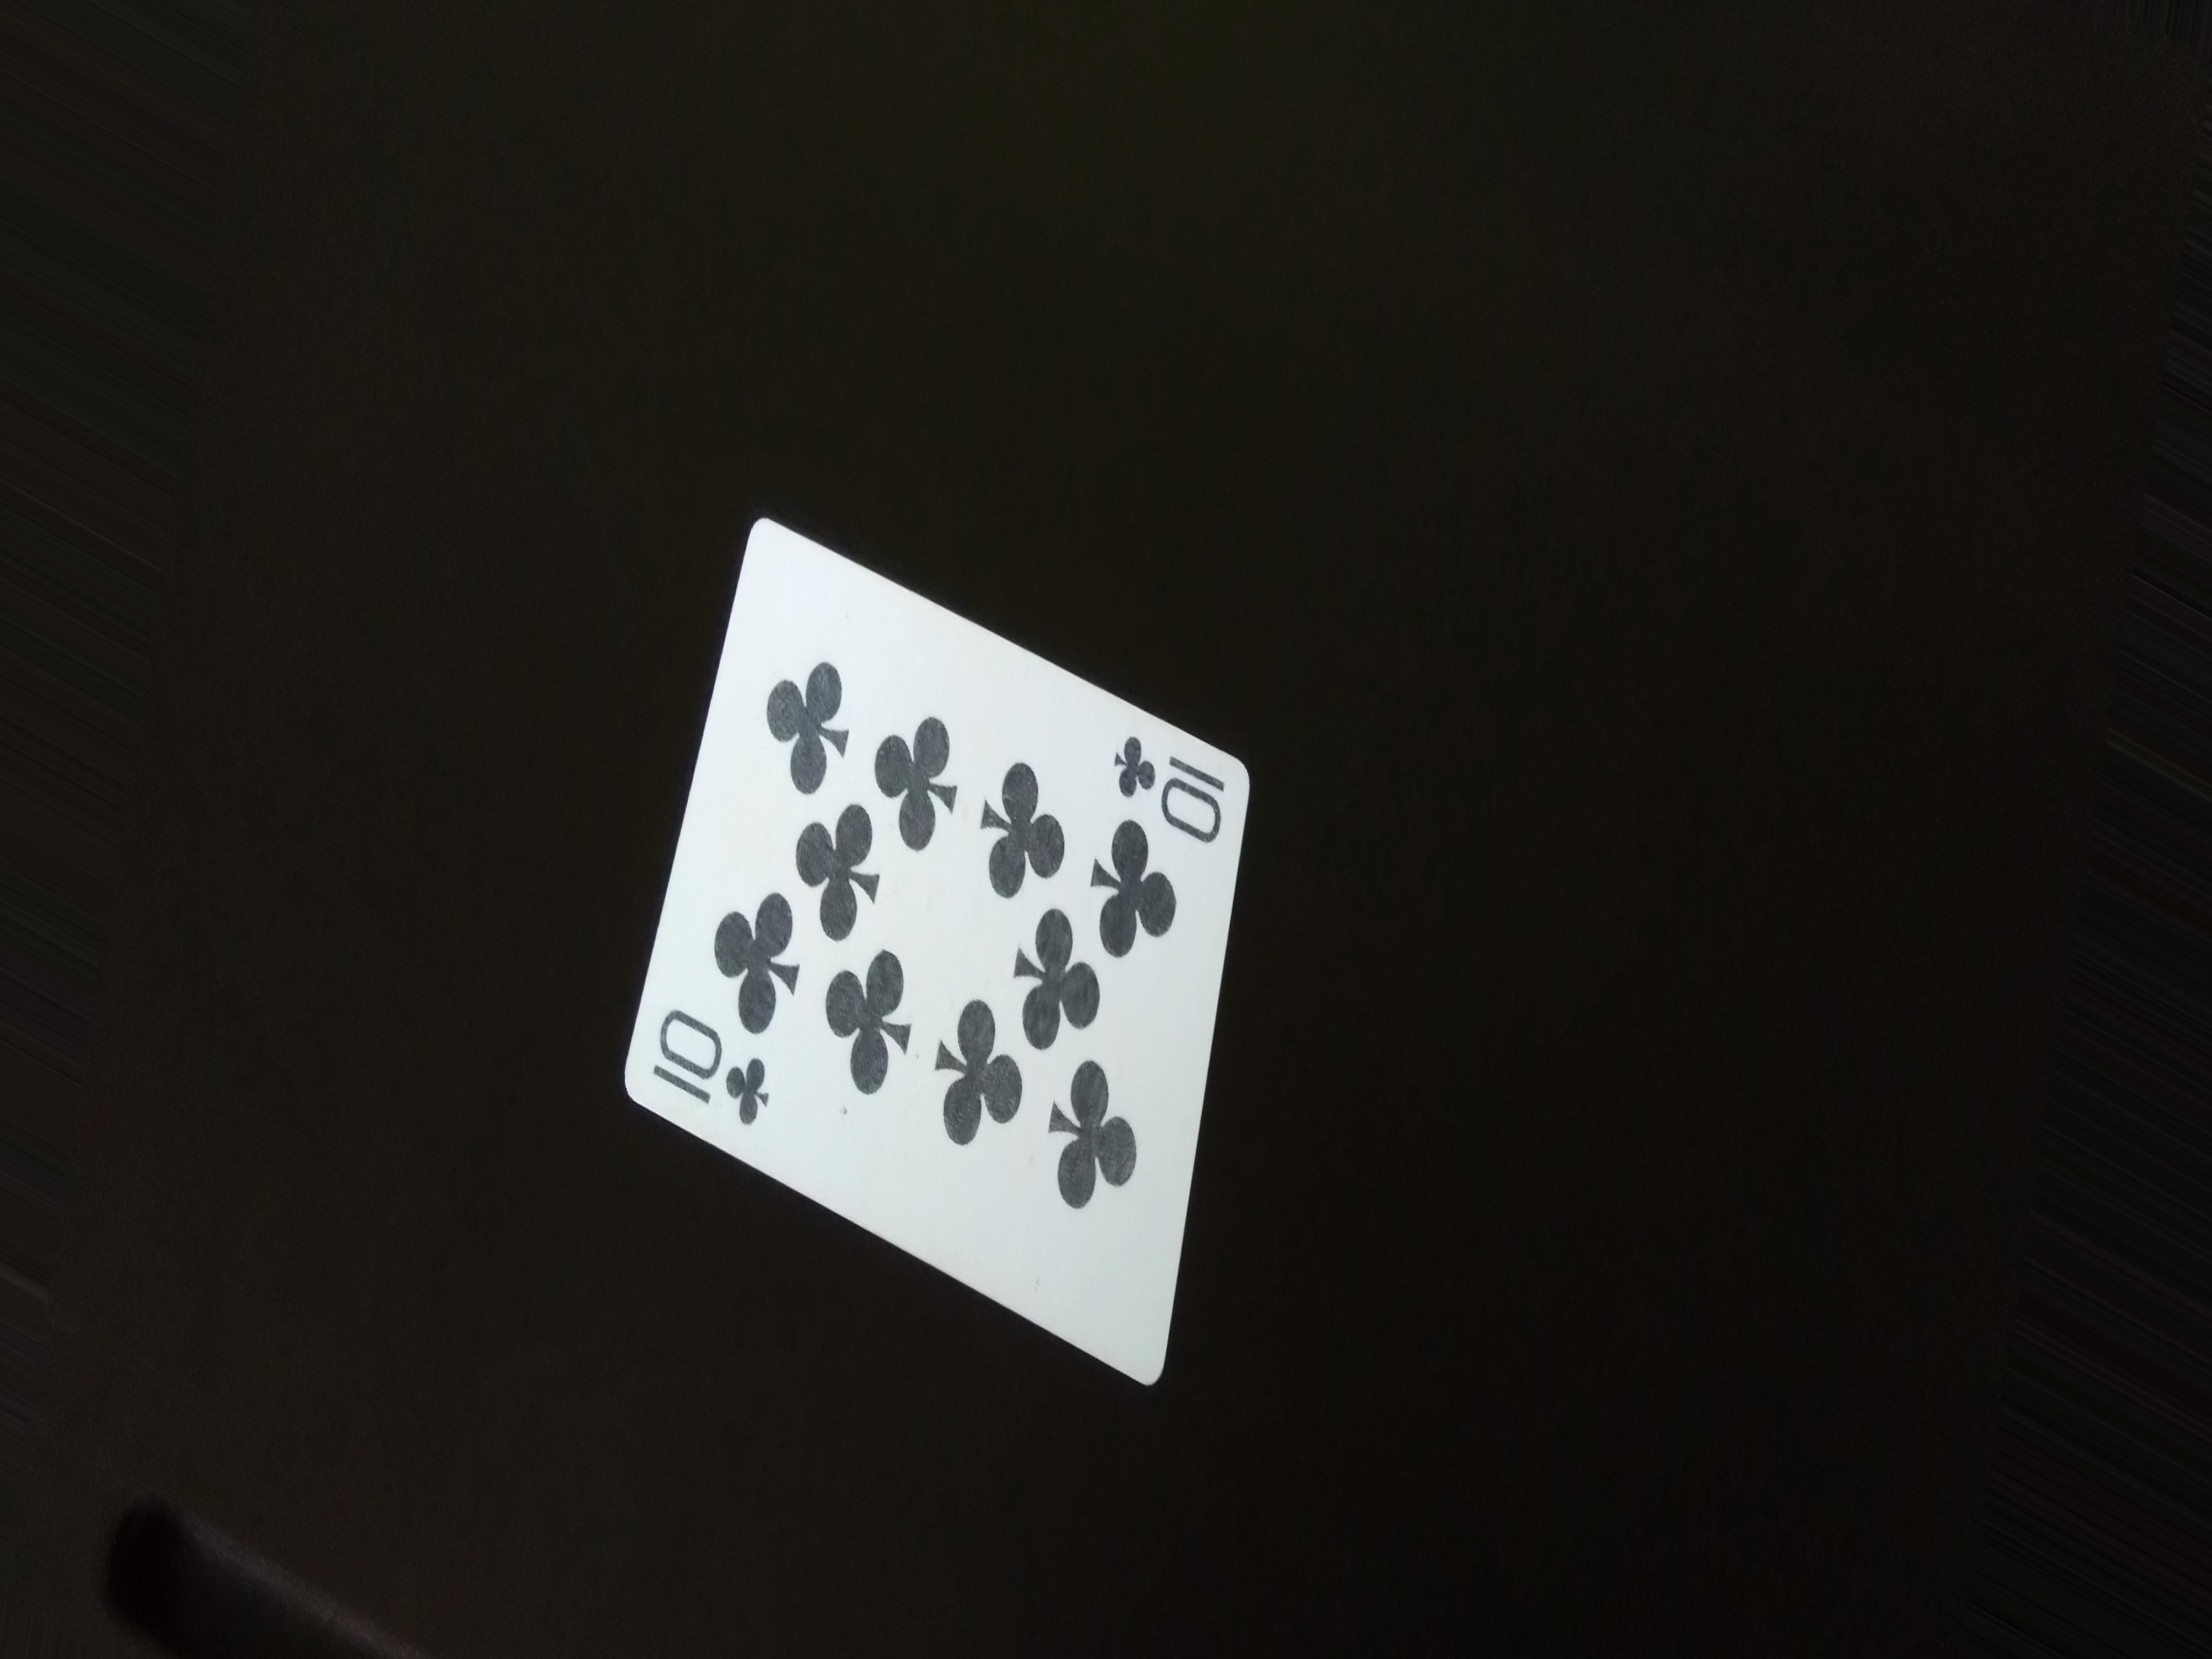10C: (637, 1004, 786, 1147)
